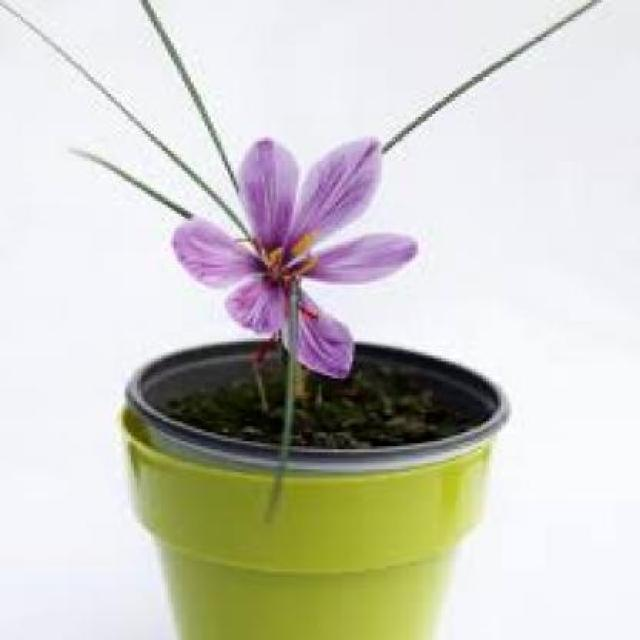Flower: (174, 131, 418, 389)
